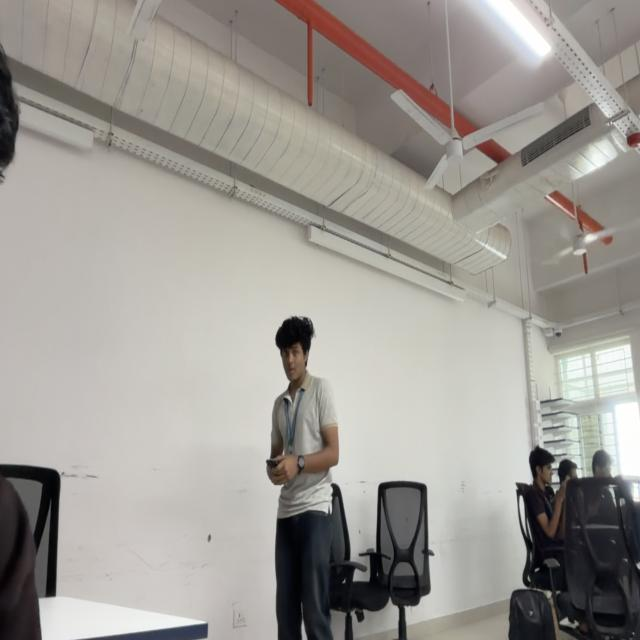kshitij: (277, 316, 313, 384)
